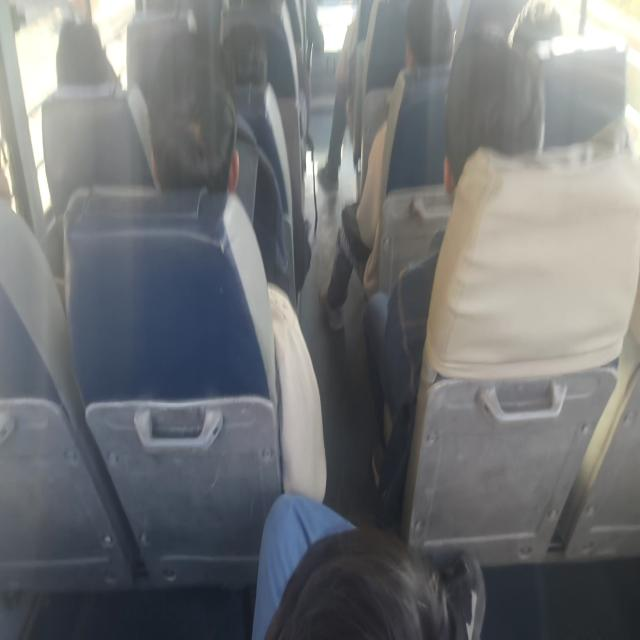person: (253, 527, 467, 640), (432, 39, 540, 214), (144, 34, 238, 194), (220, 14, 277, 92), (397, 0, 443, 84), (57, 17, 111, 88), (503, 0, 579, 47), (0, 113, 21, 212)
